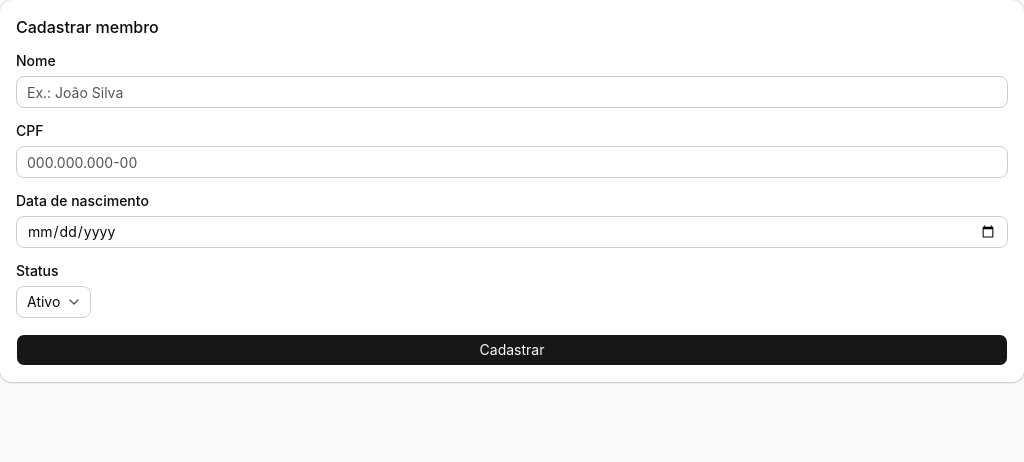
Test case: MemberForm › should show validation error when name is empty
The width and height of the screenshot is (1024, 462).
Click the button "Cadastrar" at (512, 350), box [16,334,1008,366]
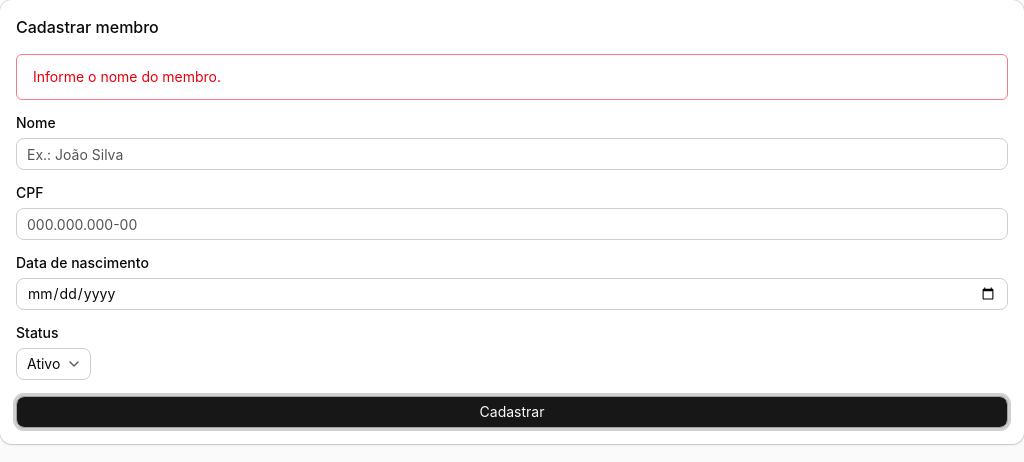
Expected: the text "Informe o nome do membro." is shown, [16,54,1008,100]
